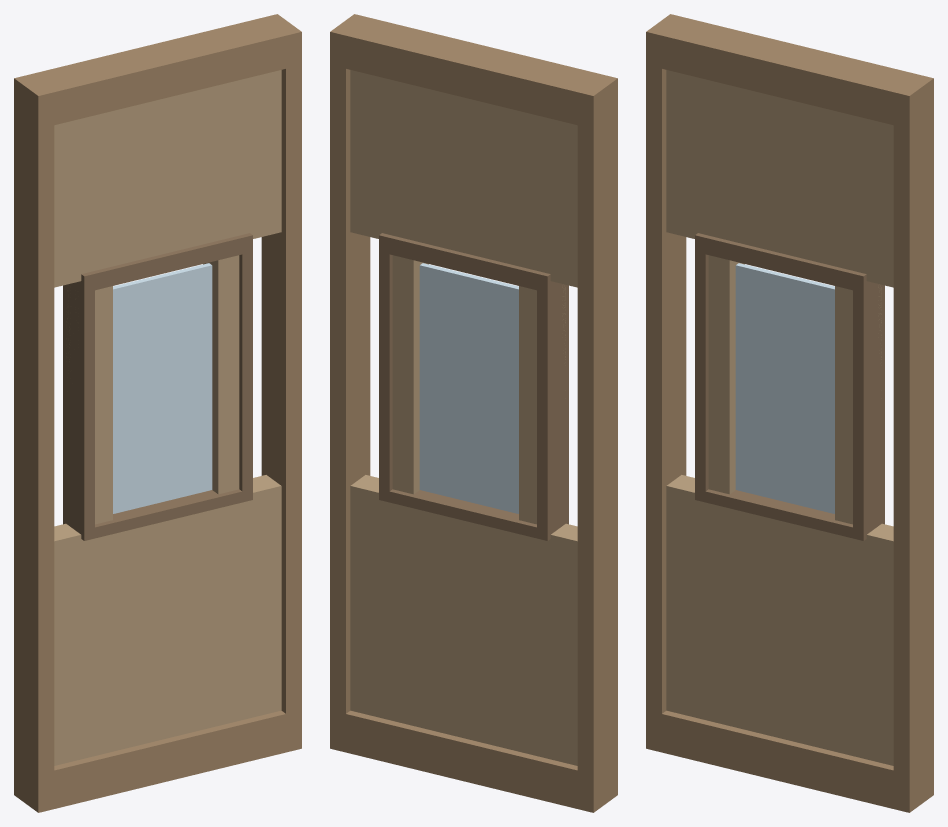
The model's file is 18-Casas_pared_ventana.glb.
The picture shows the model from 3 angles, left to right: view 1: azimuth 30°, elevation 25°; view 2: azimuth 150°, elevation 25°; view 3: azimuth 330°, elevation 25°; orthographic projection.
Visible parts, largest first — view 1: SM_ParedV_M_Pared_Madera_Panel, SM_ParedV_M_Pared_Madera_Poste, SM_ParedV_M_Pared_Vidrio, SM_ParedV_M_Pared_Marco_Ventana; view 2: SM_ParedV_M_Pared_Madera_Panel, SM_ParedV_M_Pared_Madera_Poste, SM_ParedV_M_Pared_Vidrio, SM_ParedV_M_Pared_Marco_Ventana; view 3: SM_ParedV_M_Pared_Madera_Panel, SM_ParedV_M_Pared_Madera_Poste, SM_ParedV_M_Pared_Vidrio, SM_ParedV_M_Pared_Marco_Ventana.
Boxes of the visible parts, box(x1,y1,x2,y2) form: SM_ParedV_M_Pared_Madera_Panel: box(54, 70, 281, 765); SM_ParedV_M_Pared_Madera_Poste: box(14, 14, 301, 812); SM_ParedV_M_Pared_Vidrio: box(113, 263, 212, 513); SM_ParedV_M_Pared_Marco_Ventana: box(63, 233, 252, 540); SM_ParedV_M_Pared_Madera_Panel: box(350, 70, 577, 765); SM_ParedV_M_Pared_Madera_Poste: box(330, 14, 617, 812); SM_ParedV_M_Pared_Vidrio: box(419, 263, 518, 513); SM_ParedV_M_Pared_Marco_Ventana: box(379, 233, 568, 540); SM_ParedV_M_Pared_Madera_Panel: box(666, 70, 893, 765); SM_ParedV_M_Pared_Madera_Poste: box(646, 14, 933, 812); SM_ParedV_M_Pared_Vidrio: box(735, 263, 834, 513); SM_ParedV_M_Pared_Marco_Ventana: box(695, 233, 884, 540).
Size of the model in its own units: 1 by 2.6 by 0.16.
